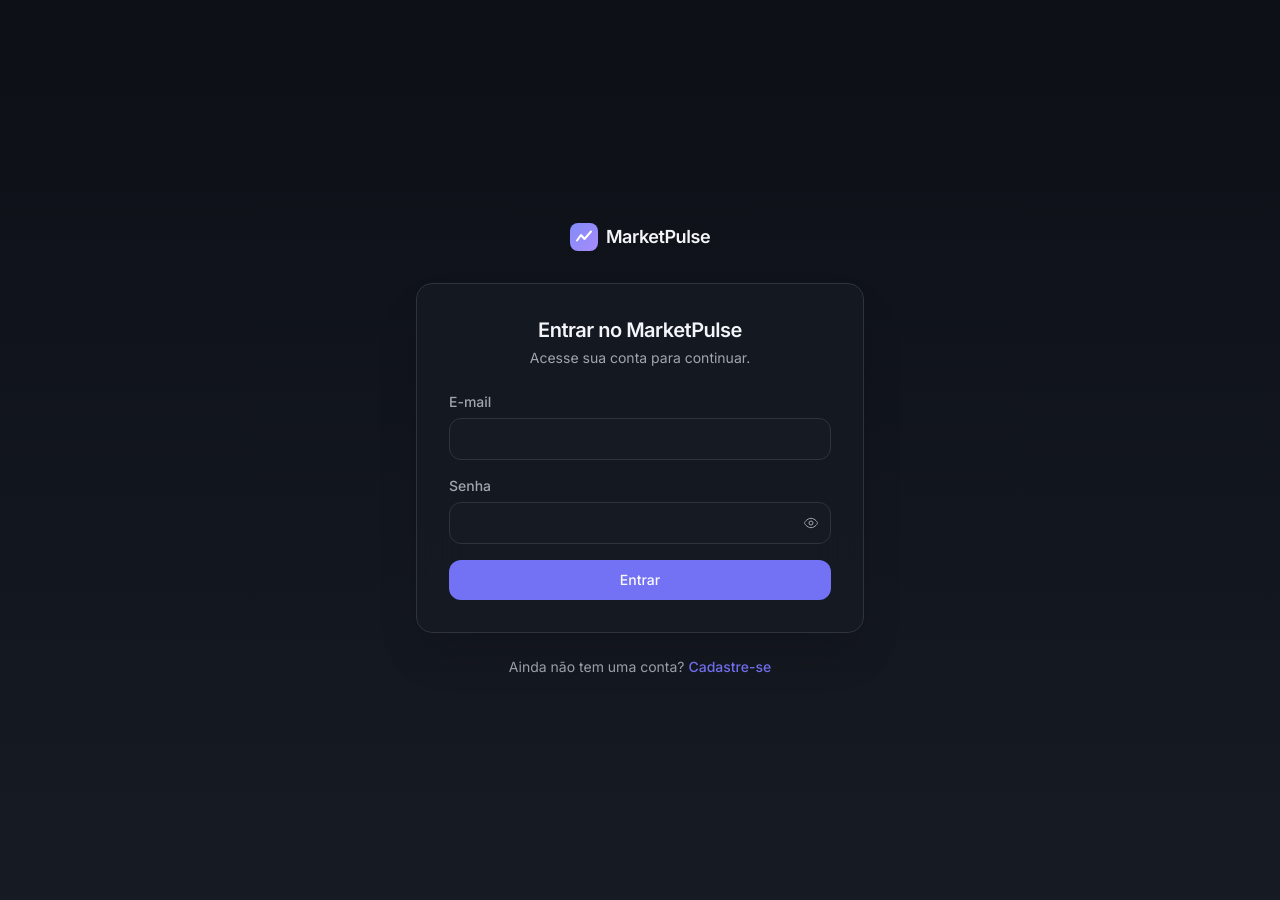
Test: LoginPage › logs in, shows a success toast and navigates to /app on success
In the field labelled "E-mail": (640, 439) [449, 418, 831, 460], type "user@example.com"
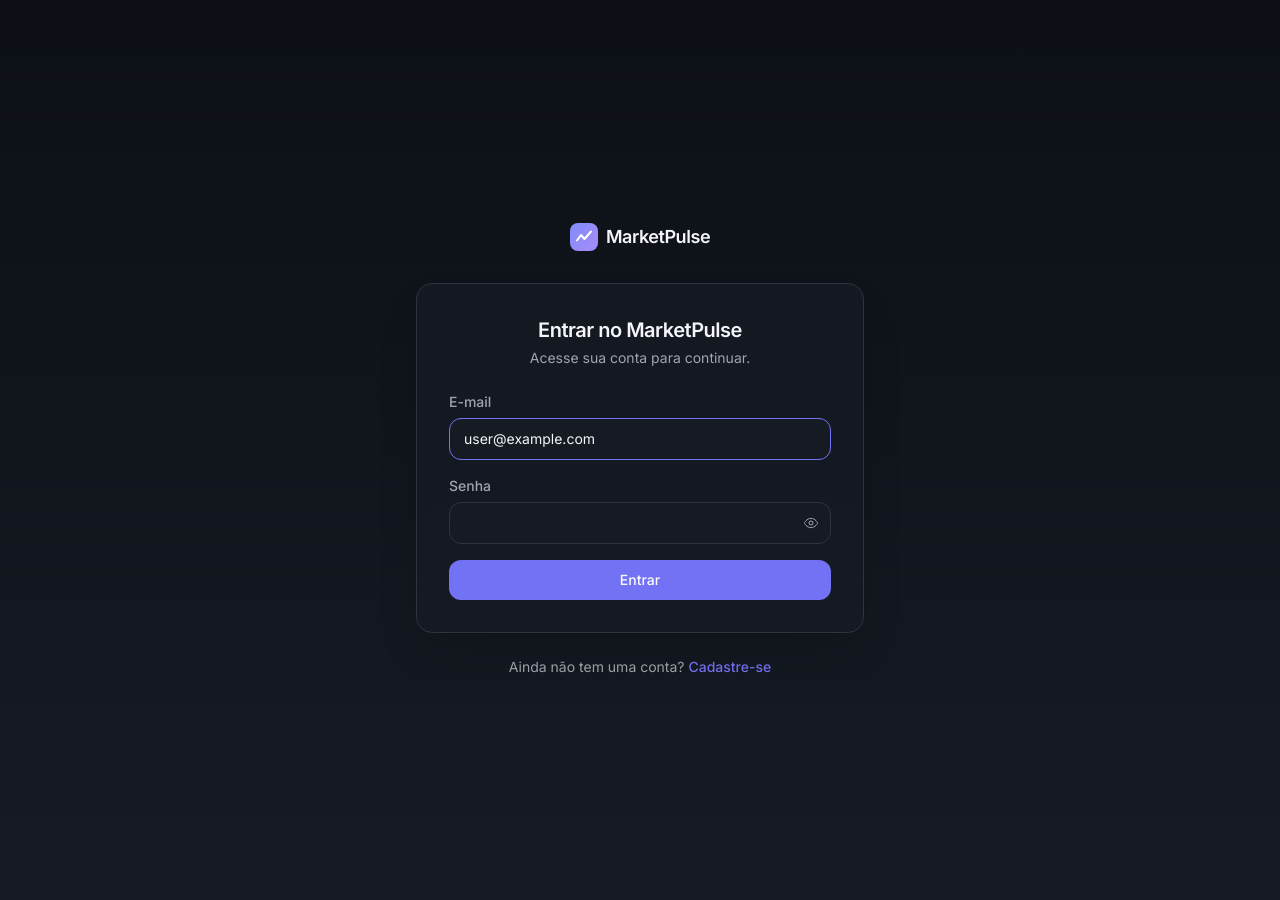
In the password field labelled "Senha": (640, 523) [449, 502, 831, 544], type "Sup3rSecret!"
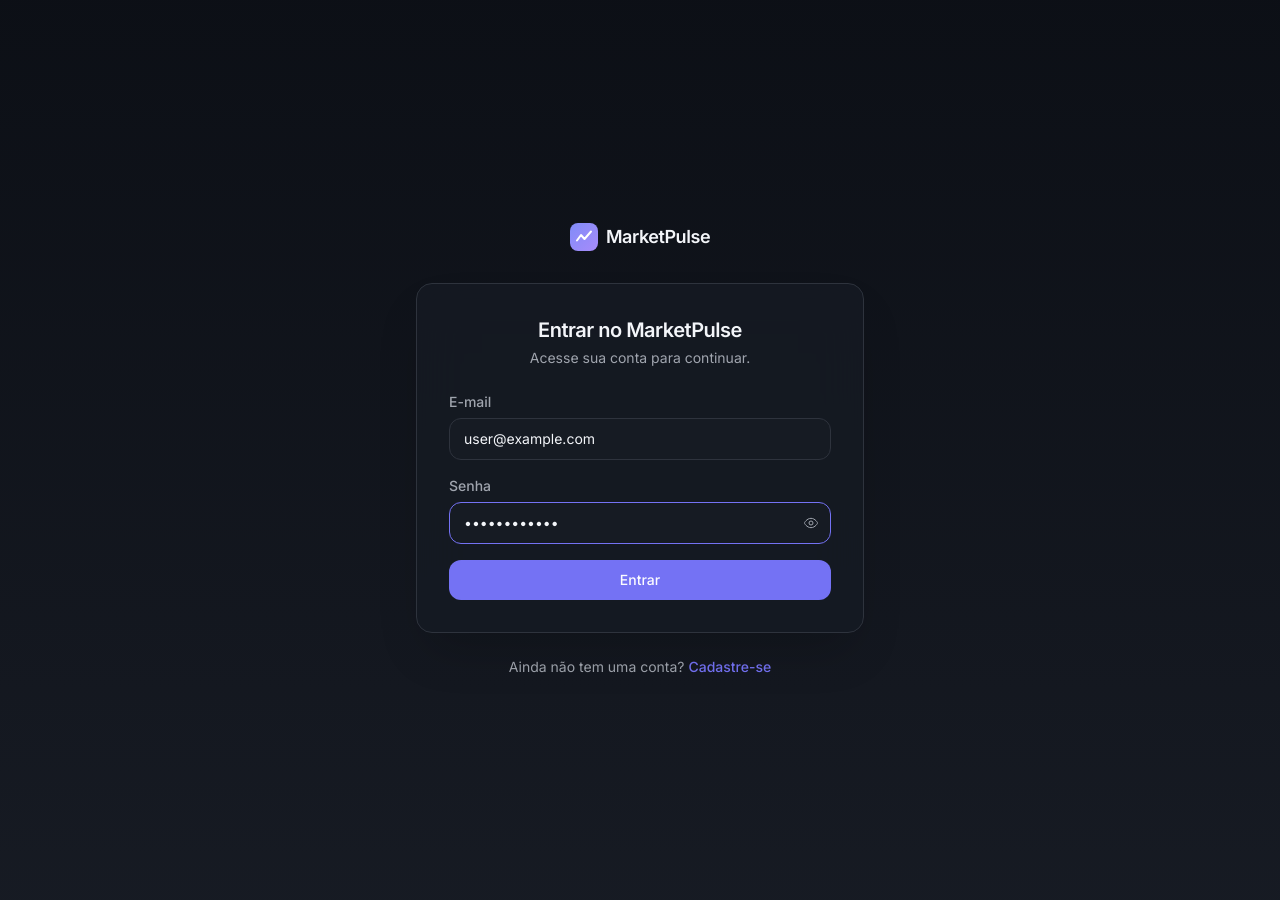
Click the button "Entrar": (640, 580) [449, 560, 831, 600]
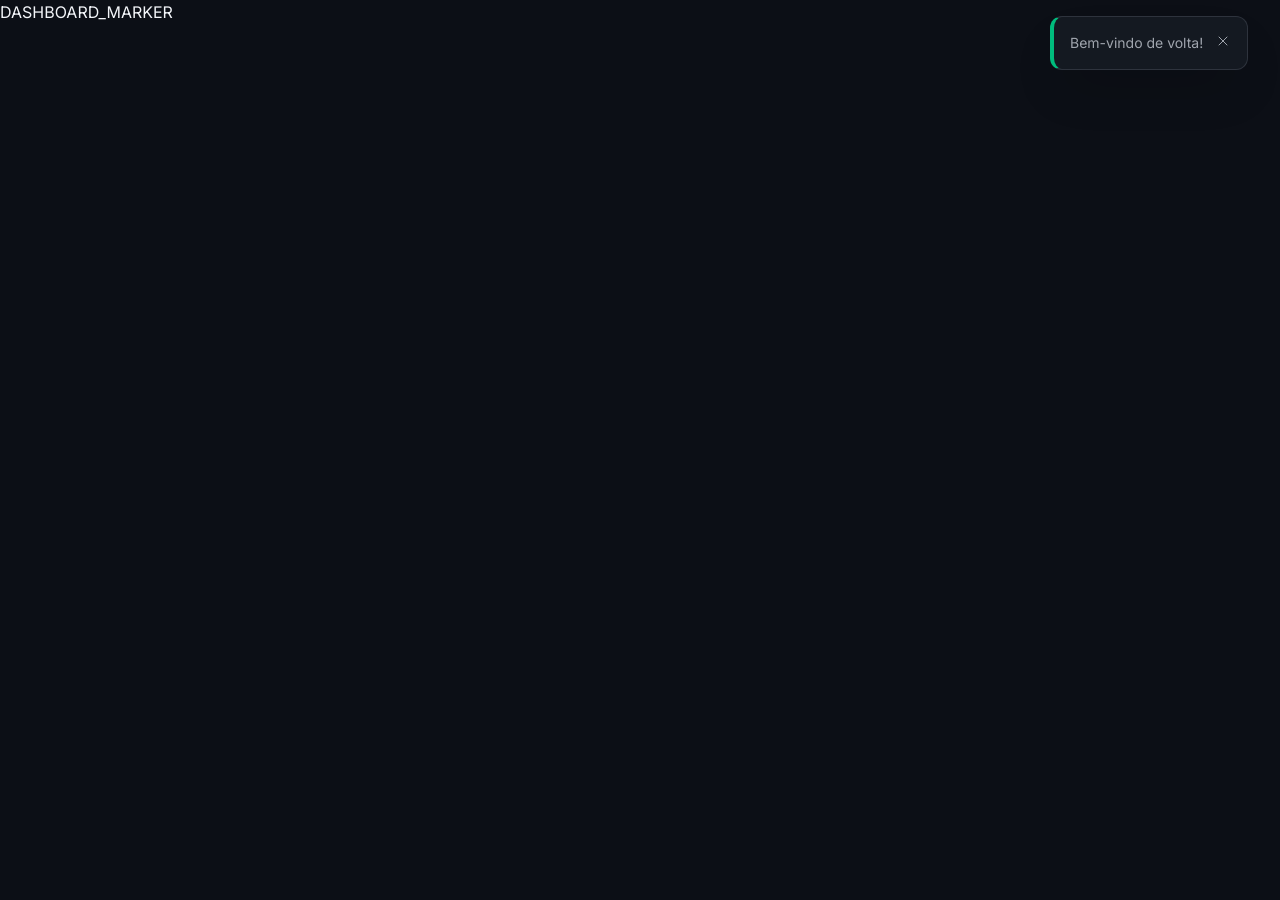
Now the text "Bem-vindo de volta!" is shown, box [1070, 33, 1203, 53]
Now the text "DASHBOARD_MARKER" is shown, box [0, 2, 173, 22]
